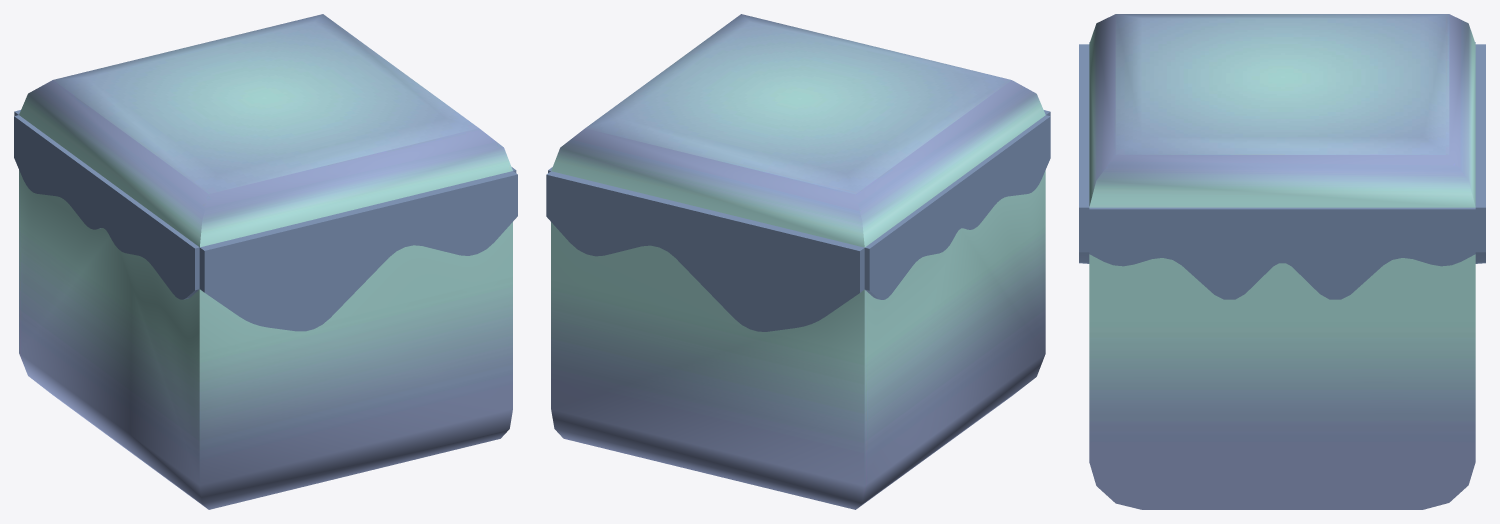
Rendered from Ice Cube Model.fbx.
3 views of the same model, side by side, from view 1: azimuth 30°, elevation 25°; view 2: azimuth 150°, elevation 25°; view 3: azimuth 270°, elevation 25° (orthographic). The views are drawn at different scales.
Parts seen in each view (by area): view 1: Ice_Cube; view 2: Ice_Cube; view 3: Ice_Cube.
Part boxes in pixels (bbox=[...]): Ice_Cube: bbox=[14, 14, 517, 509]; Ice_Cube: bbox=[546, 14, 1050, 509]; Ice_Cube: bbox=[1079, 14, 1485, 509].
Bounding box in the file's own units: 1.03 × 1 × 1.05.
1 material, 1 textured.
